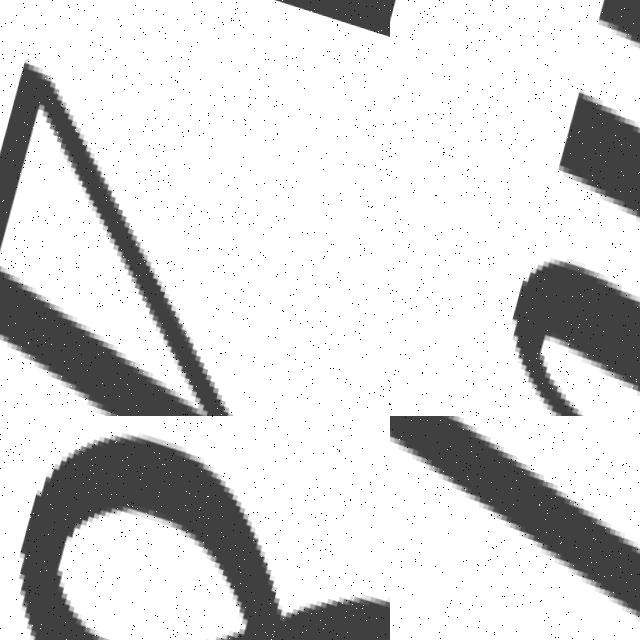8: (0, 416, 390, 640)
L: (390, 416, 640, 640)
M: (484, 0, 640, 416)
